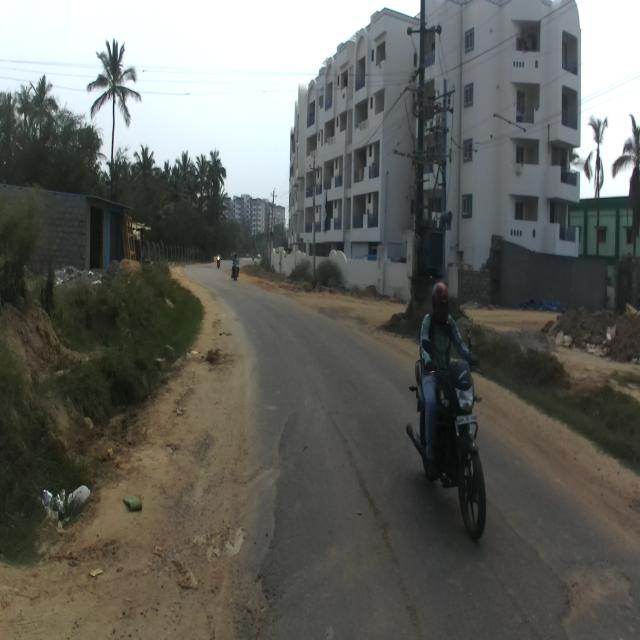motorcycle ahead at: (412, 332, 492, 547)
